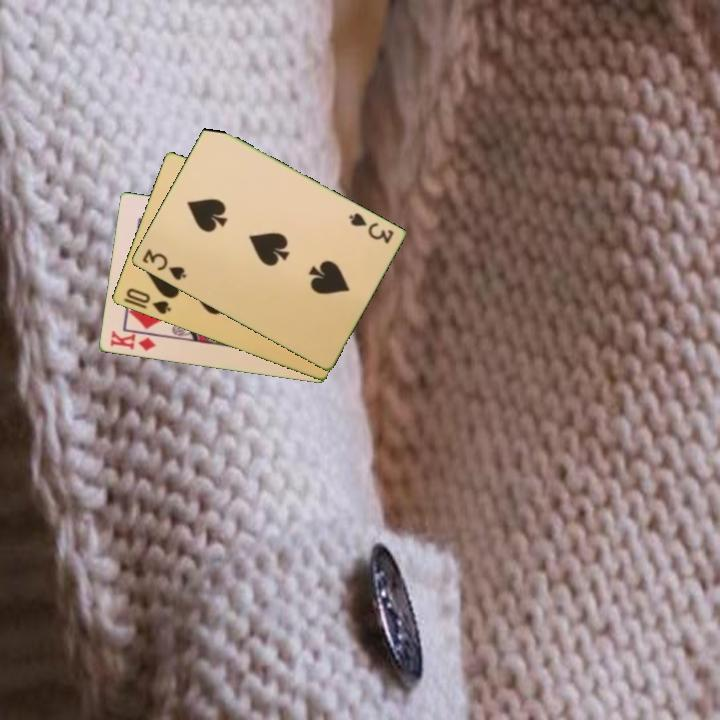10s: (122, 285, 173, 317)
3s: (138, 245, 189, 283), (345, 209, 396, 247)
Kd: (106, 328, 162, 354)
